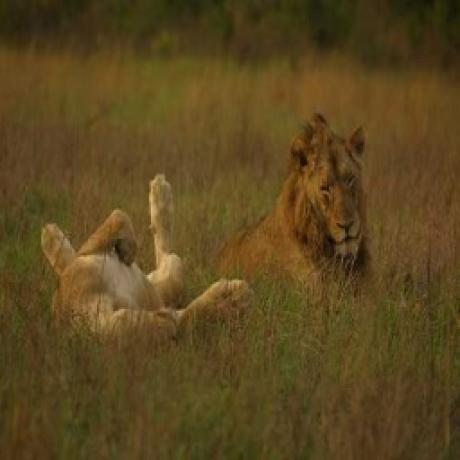Lion: (218, 114, 375, 287)
